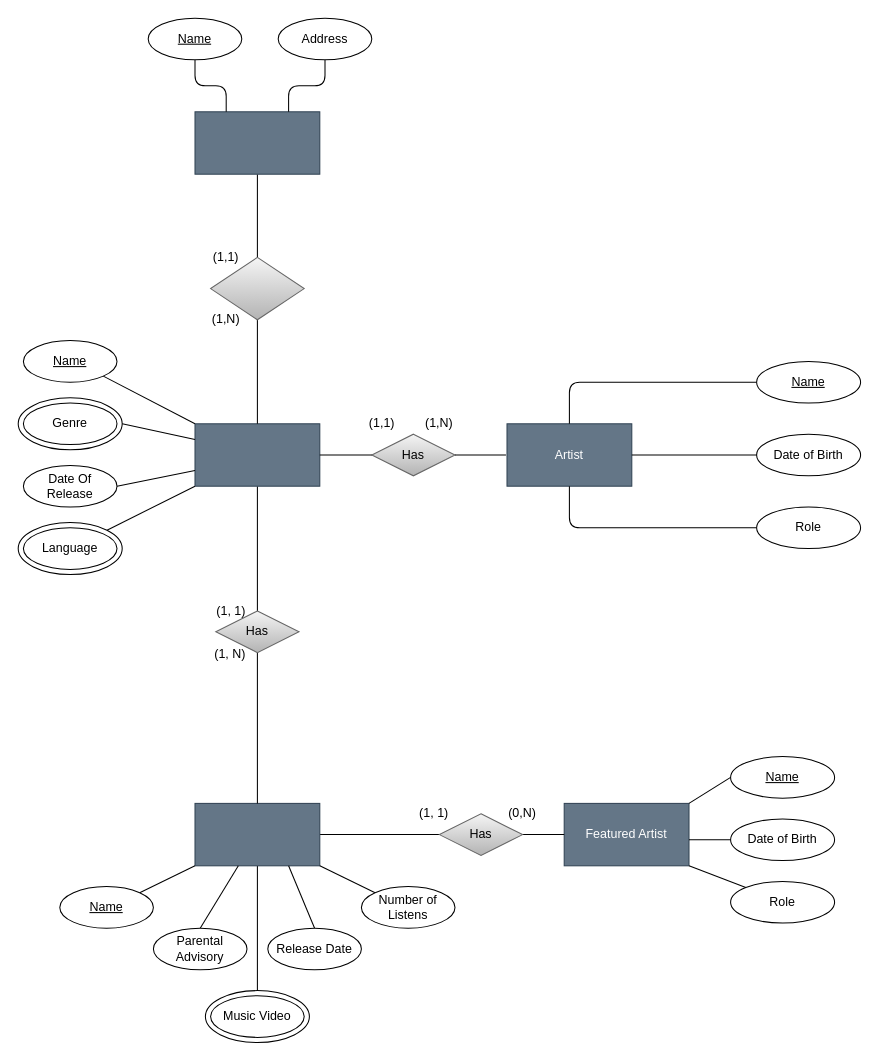
Some shapes in this 879 by 1061 pixel diagram are drawn without their labels. Here are the shapes that lost their labels. From the top down, the box of each, then its label:
(194, 111, 320, 174): Publisher
(210, 256, 304, 320): Publishes
(194, 423, 320, 486): Album
(194, 802, 320, 866): Song
